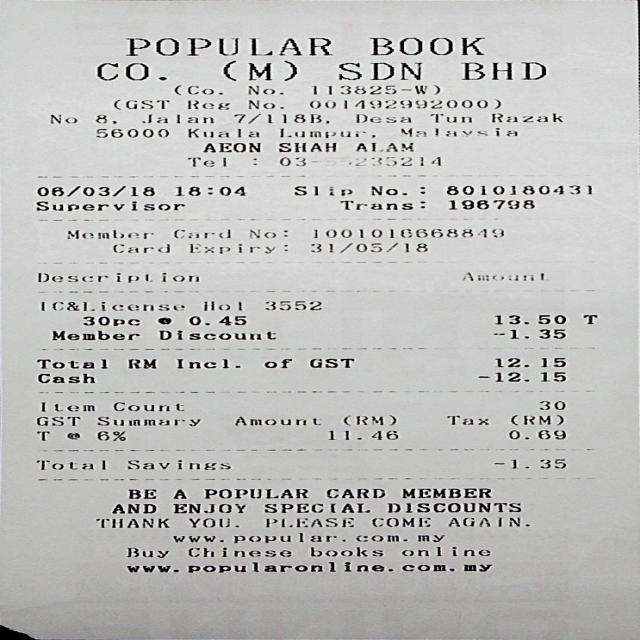text: (123, 37, 332, 55), (186, 561, 491, 572), (366, 36, 482, 54), (232, 532, 440, 542), (308, 99, 500, 108), (312, 228, 500, 237), (460, 61, 544, 79), (220, 60, 294, 80), (338, 61, 420, 79), (278, 156, 440, 165), (37, 272, 197, 281), (39, 300, 181, 310), (36, 201, 184, 210), (386, 502, 519, 512), (445, 184, 590, 193), (94, 62, 164, 79), (35, 185, 152, 195), (308, 242, 424, 252), (158, 330, 274, 340), (311, 85, 438, 94), (124, 459, 227, 470), (398, 127, 514, 136), (204, 488, 308, 498), (186, 546, 289, 556), (262, 503, 368, 512), (189, 243, 284, 253), (232, 112, 326, 122), (48, 330, 138, 340), (401, 488, 491, 498), (476, 371, 564, 381), (280, 128, 364, 138), (95, 416, 197, 424), (262, 517, 350, 526), (337, 200, 424, 209), (401, 546, 488, 555), (309, 546, 382, 556), (492, 328, 564, 338), (34, 358, 104, 368), (326, 429, 396, 439), (490, 112, 559, 122), (174, 185, 243, 195), (447, 200, 533, 208), (66, 230, 152, 238), (34, 459, 102, 469), (233, 416, 317, 424), (171, 503, 244, 512), (95, 518, 168, 527), (462, 272, 544, 280), (140, 113, 211, 122), (492, 314, 563, 323), (492, 459, 563, 468), (95, 128, 165, 137), (493, 357, 563, 366), (447, 517, 517, 526), (187, 128, 256, 137), (112, 402, 181, 411), (341, 414, 394, 425), (82, 315, 138, 325), (176, 358, 238, 367), (113, 98, 168, 108), (509, 414, 562, 424), (325, 488, 383, 497), (353, 142, 410, 151), (202, 142, 259, 151), (370, 517, 427, 526), (278, 142, 334, 151), (172, 228, 228, 237), (112, 243, 168, 252), (508, 429, 564, 438), (36, 373, 91, 382), (39, 402, 92, 411), (293, 186, 350, 194), (188, 316, 245, 324), (124, 547, 165, 558), (262, 301, 318, 309), (174, 85, 222, 94), (369, 186, 423, 194), (186, 99, 228, 109), (186, 518, 238, 526), (444, 414, 485, 424), (110, 503, 155, 512), (308, 358, 352, 367), (353, 114, 408, 121), (202, 300, 240, 310), (427, 113, 469, 122), (170, 535, 222, 542), (34, 416, 78, 424), (248, 228, 284, 237), (247, 85, 282, 94), (247, 99, 282, 108), (186, 157, 225, 165), (125, 565, 176, 571), (127, 489, 155, 499), (95, 431, 124, 440), (538, 400, 564, 410), (127, 358, 154, 367), (262, 358, 288, 367), (48, 114, 74, 122), (94, 114, 114, 123), (34, 430, 48, 440), (172, 488, 184, 498), (64, 431, 78, 439), (582, 314, 594, 323)
